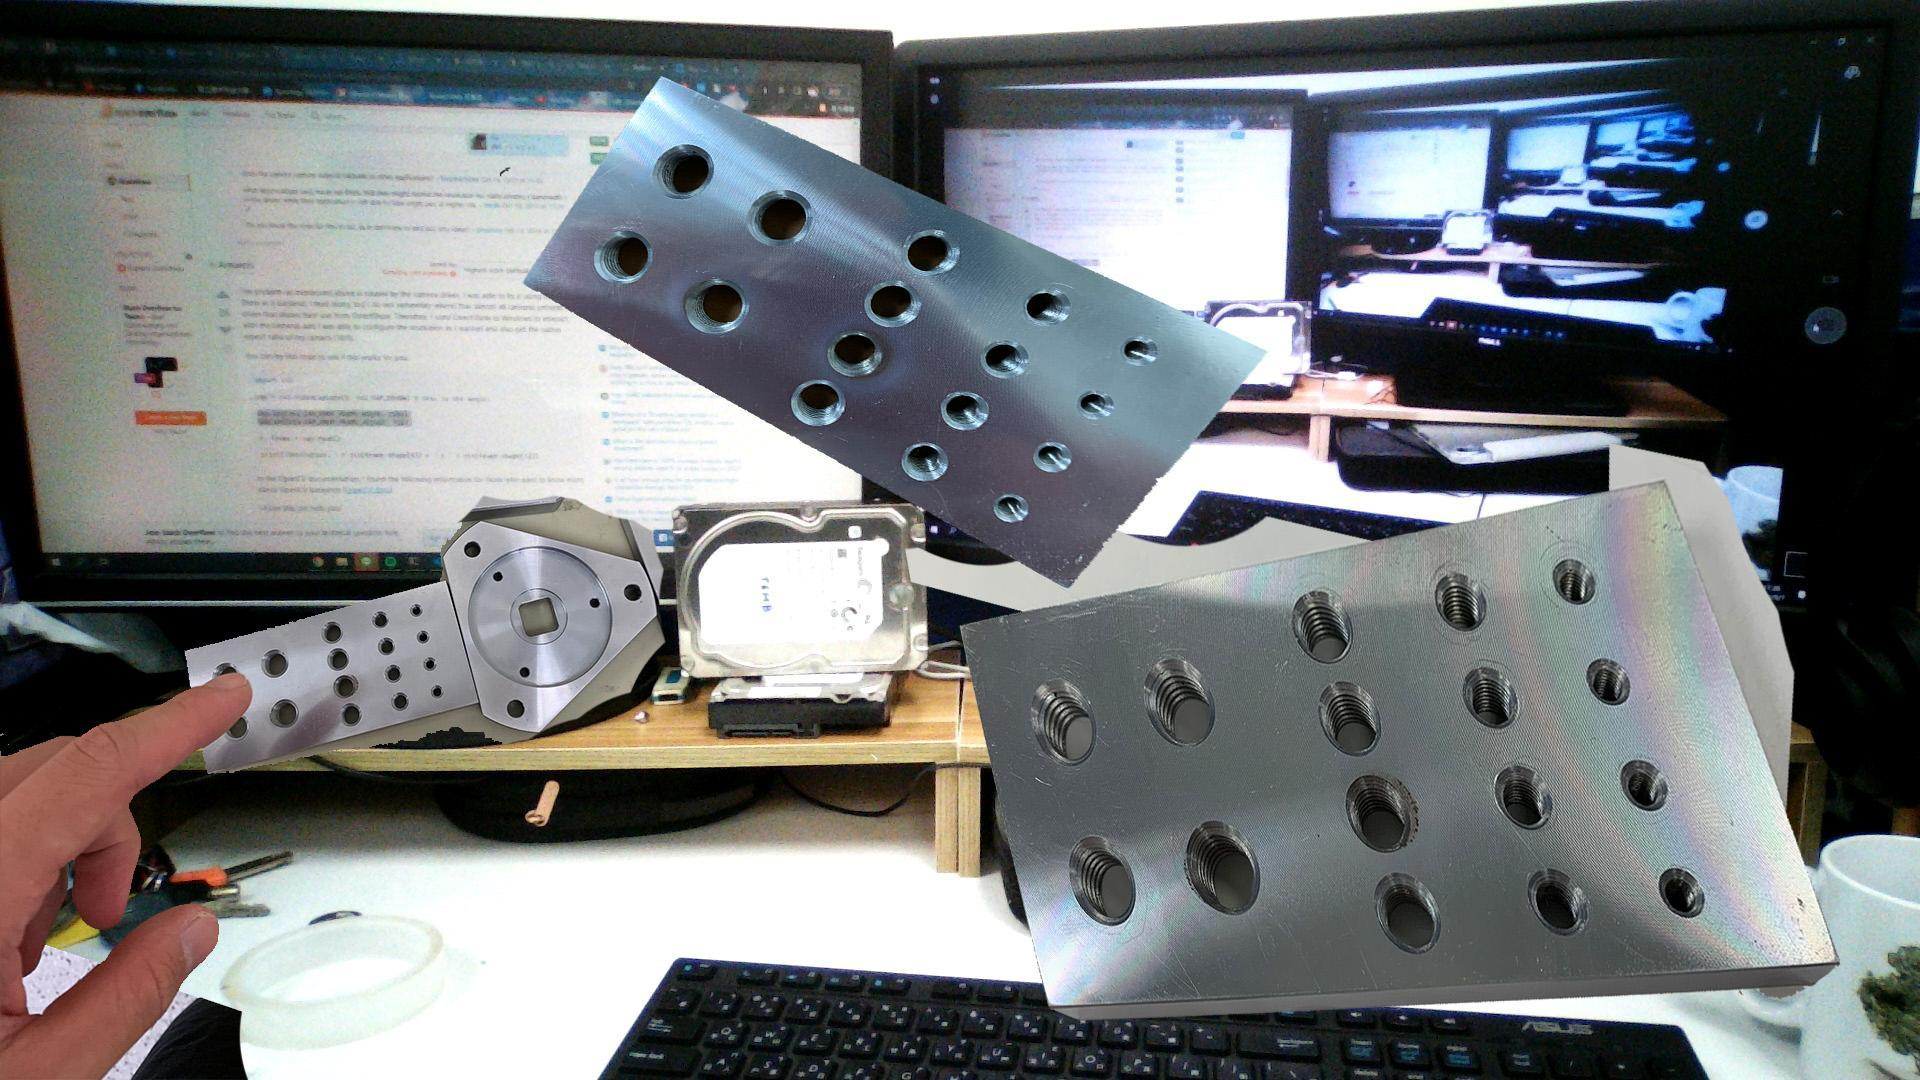hole: (1178, 811, 1273, 930), (1062, 818, 1144, 943), (1134, 646, 1222, 754), (1026, 670, 1108, 781), (1364, 865, 1455, 961), (1337, 766, 1428, 856), (1286, 582, 1360, 672), (1312, 678, 1392, 760), (1482, 757, 1566, 834), (1521, 862, 1598, 944), (744, 175, 816, 262), (1460, 654, 1529, 733), (678, 276, 760, 342), (650, 136, 722, 208), (588, 220, 661, 286), (1430, 565, 1491, 640), (1652, 856, 1710, 927), (823, 322, 887, 386), (1544, 546, 1605, 612), (860, 272, 924, 333), (899, 221, 964, 280), (789, 372, 848, 436), (1613, 758, 1678, 813), (976, 334, 1039, 385), (1020, 280, 1076, 335), (1584, 656, 1639, 712), (937, 388, 1001, 432), (897, 441, 955, 485), (1025, 436, 1081, 481), (1116, 332, 1162, 373), (1073, 386, 1119, 426), (988, 490, 1036, 527), (265, 696, 305, 733), (256, 644, 292, 683), (222, 716, 258, 742), (329, 673, 361, 700), (336, 702, 364, 728), (318, 620, 347, 645), (325, 648, 354, 672), (620, 578, 644, 607), (504, 696, 528, 722), (461, 539, 485, 562), (376, 634, 398, 658), (370, 609, 392, 632), (390, 690, 412, 713), (382, 664, 404, 686), (428, 684, 447, 701), (422, 654, 438, 673), (409, 600, 424, 620), (415, 628, 431, 645)
